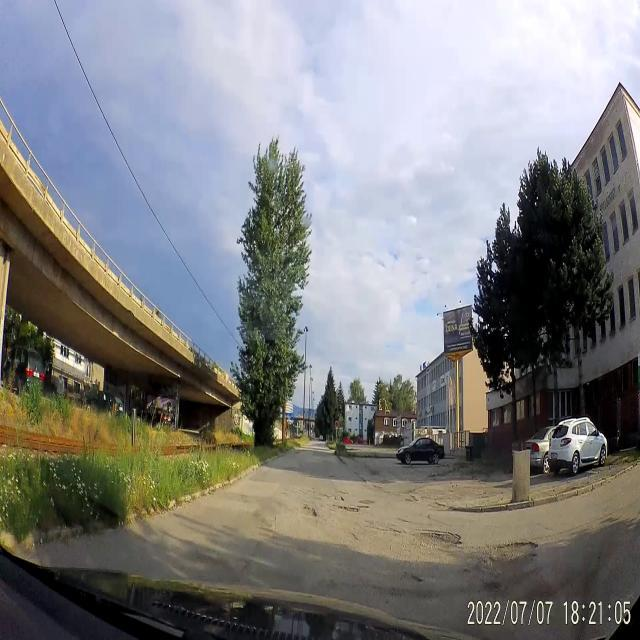Manhole: (358, 498, 374, 506)
Pothole: (484, 528, 542, 561), (412, 531, 466, 551), (396, 566, 426, 588), (335, 504, 368, 516), (302, 504, 320, 524), (323, 488, 347, 502), (328, 472, 340, 482)
